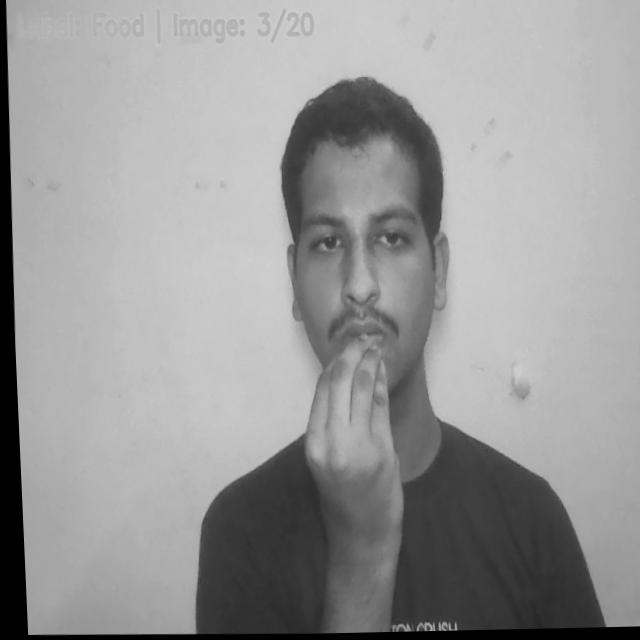Food: (290, 334, 407, 560)
